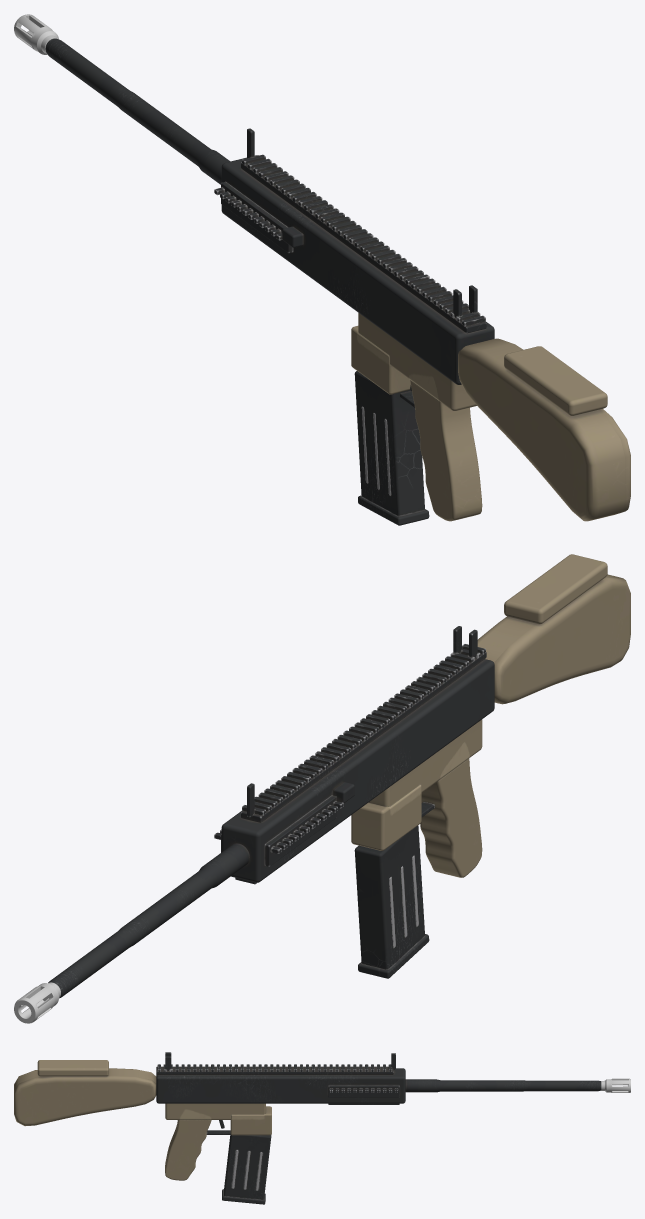
The model's file is scar_h.gltf.
3 views of the same model, one above another, from view 1: azimuth 30°, elevation 25°; view 2: azimuth 150°, elevation 25°; view 3: azimuth 270°, elevation 25° (orthographic). The views are drawn at different scales.
Visible parts, largest first — view 1: Frame, Stock, Mag_body, FlashHider; view 2: Frame, Stock, Mag_body, FlashHider; view 3: Frame, Stock, Mag_body, FlashHider.
Boxes of the visible parts, bbox=[...] form: Frame: bbox=[45, 38, 494, 521]; Stock: bbox=[458, 338, 630, 521]; Mag_body: bbox=[354, 371, 429, 525]; FlashHider: bbox=[14, 14, 58, 54]; Frame: bbox=[48, 626, 494, 998]; Stock: bbox=[477, 554, 630, 704]; Mag_body: bbox=[354, 825, 429, 978]; FlashHider: bbox=[14, 982, 60, 1023]; Frame: bbox=[156, 1052, 601, 1180]; Stock: bbox=[14, 1060, 156, 1126]; Mag_body: bbox=[222, 1135, 271, 1204]; FlashHider: bbox=[601, 1078, 630, 1092].
Size of the model in its own units: 0.066 by 0.2739 by 1.04.
